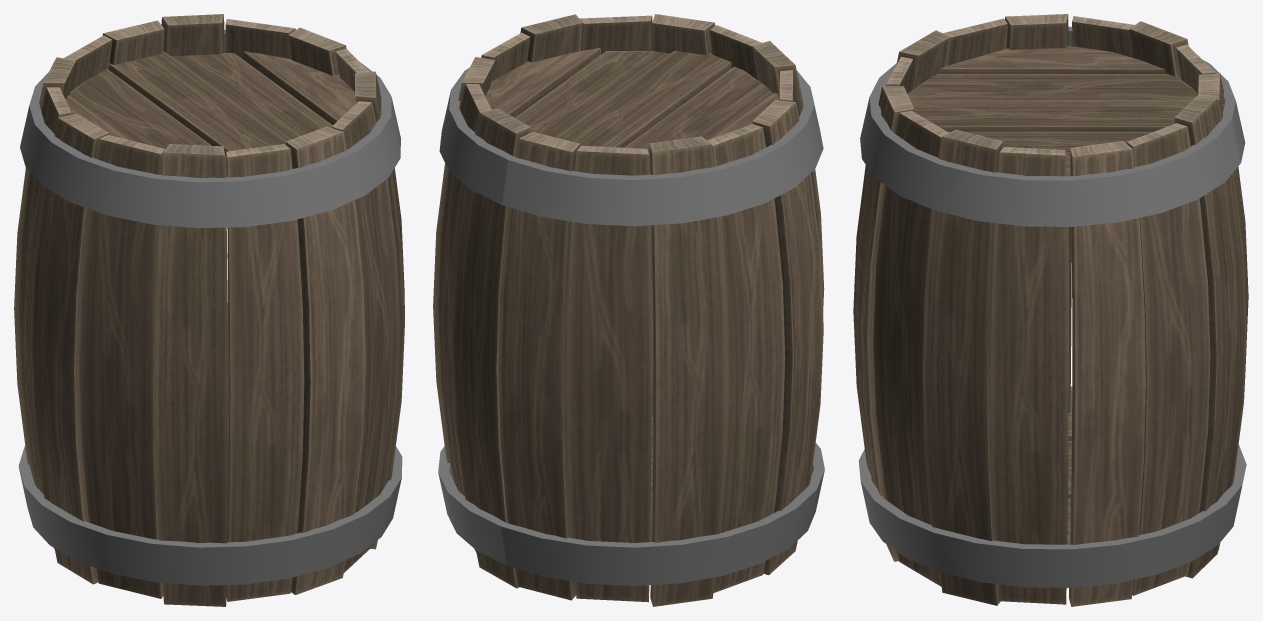
File: SM_barrel_01.fbx
The picture shows the model from 3 angles, left to right: view 1: azimuth 30°, elevation 25°; view 2: azimuth 150°, elevation 25°; view 3: azimuth 270°, elevation 25°; orthographic projection.
Parts seen in each view (by area): view 1: Object32609; view 2: Object32609; view 3: Object32609.
Part boxes in pixels (<box>): Object32609: <box>14,14,404,606</box>; Object32609: <box>433,14,824,606</box>; Object32609: <box>853,14,1248,606</box>.
Bounding box in the file's own units: 29.52 × 37.53 × 29.48.
